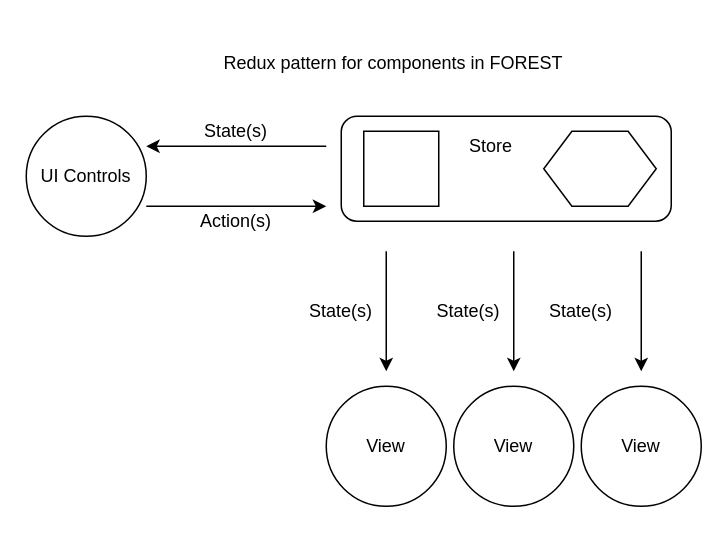
The diagram is 728 pixels wide and 533 high, and some of its shapes have lost their labels. The centre of each missing label's shape, as x and y in pixels:
Reducer: (x=400, y=168)
State: (x=599, y=168)
